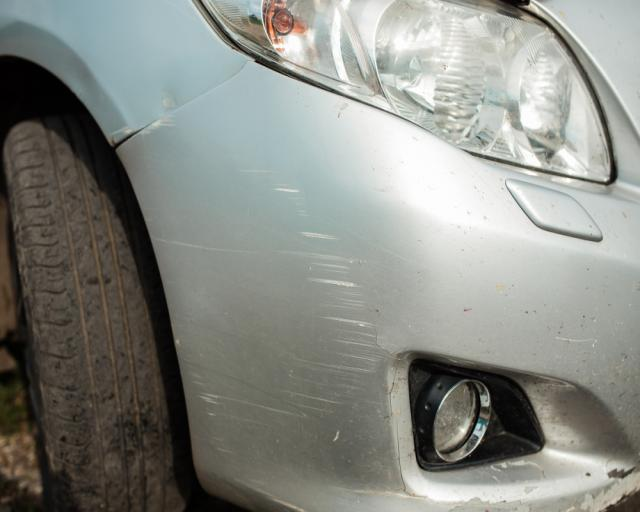scratch: (196, 167, 393, 453), (558, 466, 640, 512)
